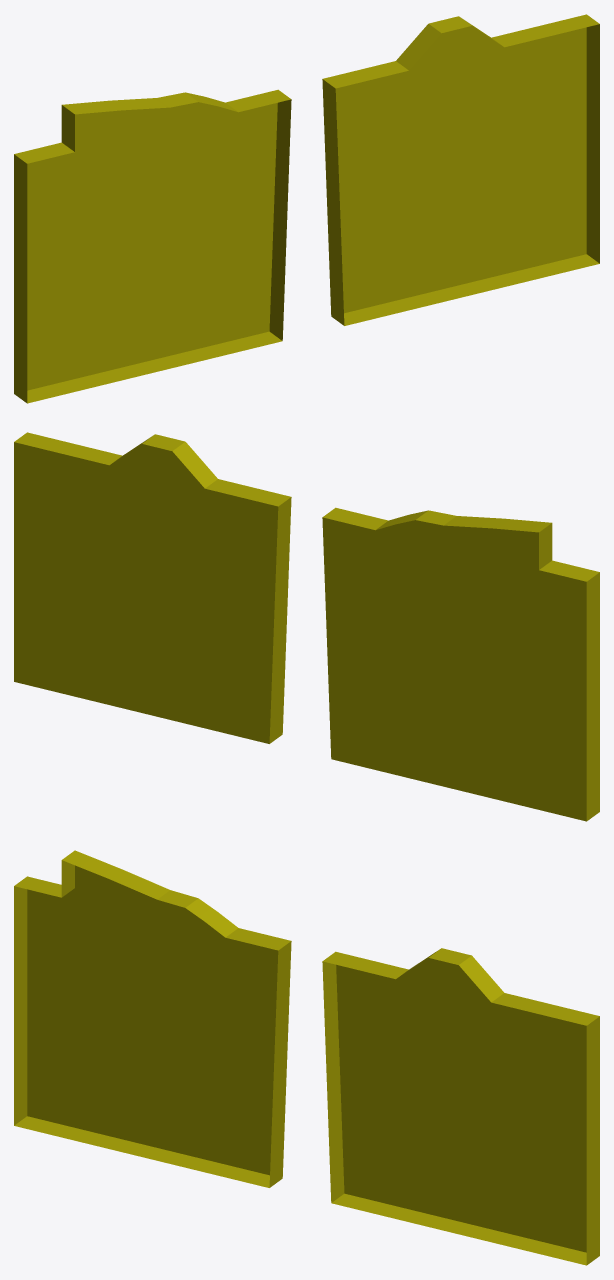
The model's file is lollipop forest low res 2.fbx.
3 views of the same model, one above another, from view 1: azimuth 30°, elevation 25°; view 2: azimuth 150°, elevation 25°; view 3: azimuth 330°, elevation 25° (orthographic).
Visible parts, largest first — view 1: lollipop_Forest_terrain; view 2: lollipop_Forest_terrain; view 3: lollipop_Forest_terrain.
Part boxes in pixels (<box>): lollipop_Forest_terrain: <box>14,14,599,403</box>; lollipop_Forest_terrain: <box>14,432,599,821</box>; lollipop_Forest_terrain: <box>14,850,599,1265</box>.
Size of the model in its own units: 25 by 11.57 by 1.
